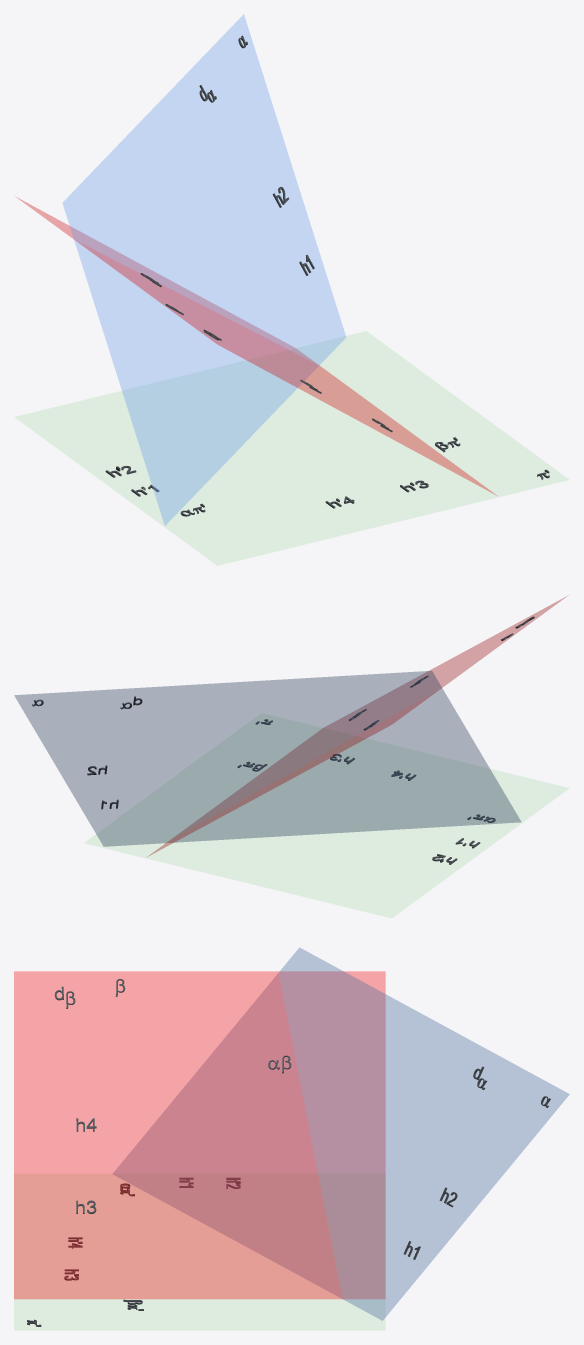
Rendered from int_pq_pq.glb.
3 views of the same model, one above another, from view 1: azimuth 30°, elevation 25°; view 2: azimuth 150°, elevation 25°; view 3: azimuth 270°, elevation 25° (orthographic). The views are drawn at different scales.
Parts seen in each view (by area): view 1: 3DGeom-3, 3DGeom-1, 3DGeom-2; view 2: 3DGeom-3, 3DGeom-1, 3DGeom-2; view 3: 3DGeom-2, 3DGeom-3, 3DGeom-1.
Part boxes in pixels (x1,y1,x2,y2): 3DGeom-3: (62, 14, 345, 525); 3DGeom-1: (15, 331, 568, 565); 3DGeom-2: (16, 197, 496, 495); 3DGeom-3: (14, 671, 520, 846); 3DGeom-1: (84, 713, 569, 918); 3DGeom-2: (147, 596, 566, 856); 3DGeom-2: (14, 971, 385, 1298); 3DGeom-3: (113, 947, 569, 1320); 3DGeom-1: (14, 1174, 385, 1330).
Bounding box in the file's own units: 2.54 × 1.71 × 3.8.
